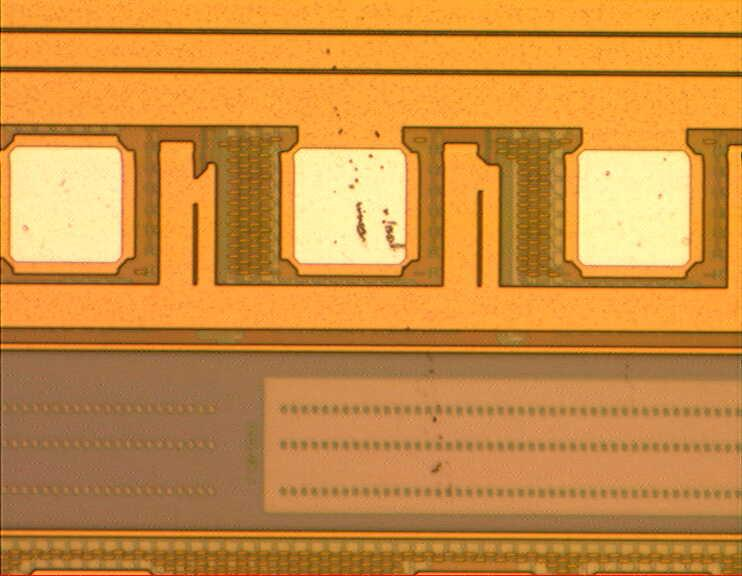SCRATCH: (295, 22, 456, 495)
